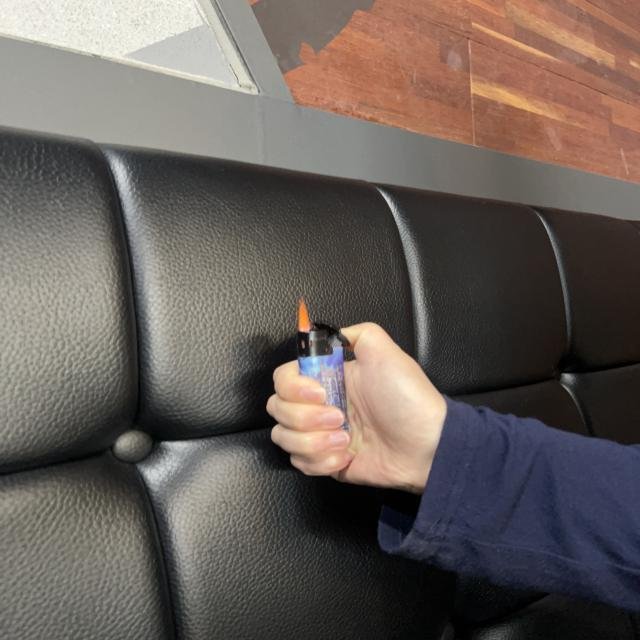fire: (295, 299, 315, 335)
